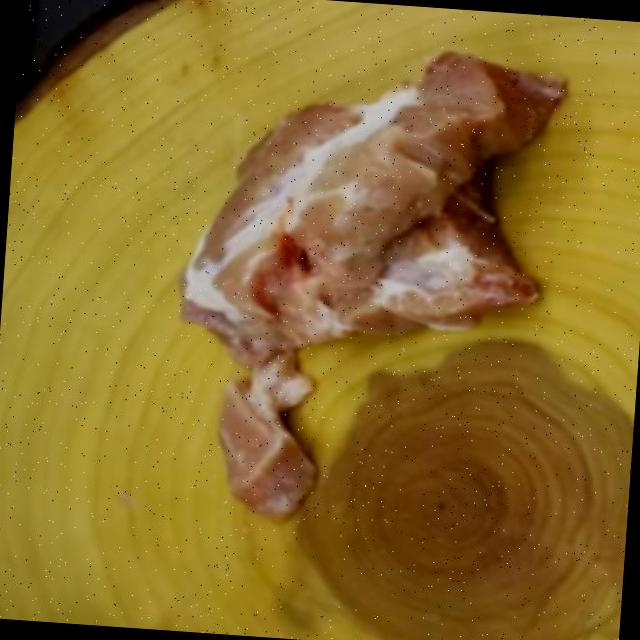pork: (178, 29, 575, 525)
